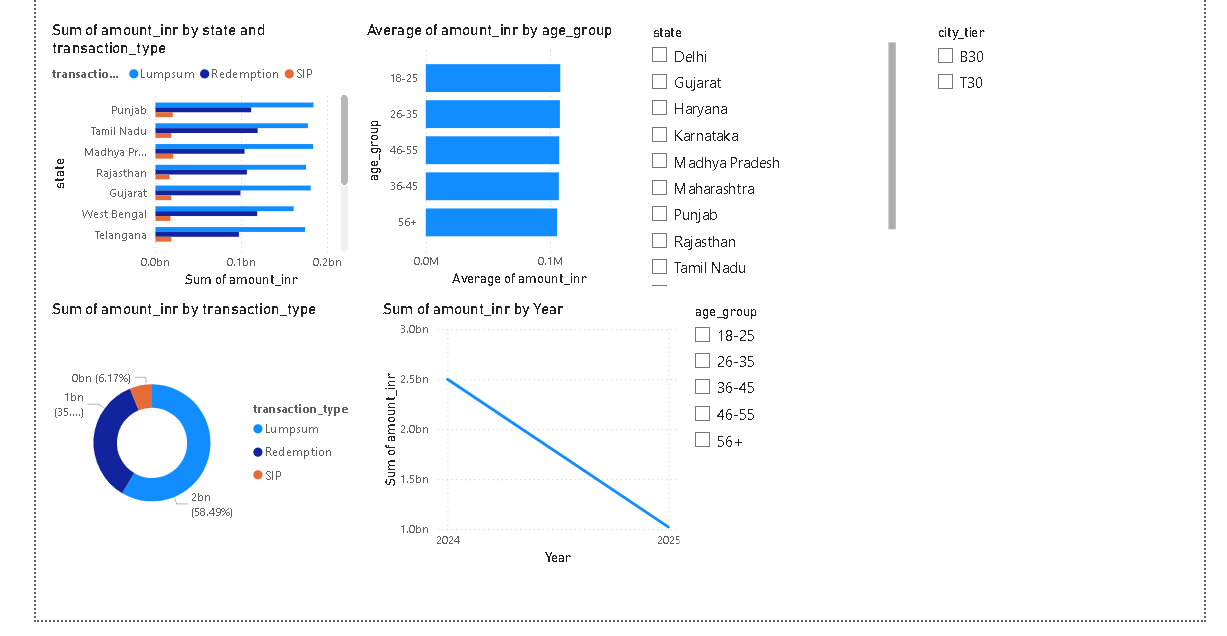

Layout of this report page (visuals, bound fields, positions):
{"tool":"powerbi","page":{"name":"Investor Analytics","canvas":[1280,720],"ordinal":2},"visuals":[{"type":"clusteredBarChart","fields":{"Category":["investor_transactions_cleaned.state"],"Y":["Sum(investor_transactions_cleaned.amount_inr)"],"Series":["investor_transactions_cleaned.transaction_type"]},"box":[12.3,63.1,334.8,296.4],"z":0},{"type":"donutChart","fields":{"Category":["investor_transactions_cleaned.transaction_type"],"Y":["Sum(investor_transactions_cleaned.amount_inr)"]},"box":[12,369,335,296],"z":1000},{"type":"clusteredBarChart","fields":{"Category":["investor_transactions_cleaned.age_group"],"Y":["Avg(investor_transactions_cleaned.amount_inr)"]},"box":[358.1,63.1,292.3,296.4],"z":2000},{"type":"lineChart","fields":{"Category":["investor_transactions_cleaned.transaction_date.Variation.Date Hierarchy.Year","investor_transactions_cleaned.transaction_date.Variation.Date Hierarchy.Quarter","investor_transactions_cleaned.transaction_date.Variation.Date Hierarchy.Month","investor_transactions_cleaned.transaction_date.Variation.Date Hierarchy.Day"],"Y":["Sum(investor_transactions_cleaned.amount_inr)"]},"box":[375,369,335,296],"z":3000},{"type":"slicer","fields":{"Values":["investor_transactions_cleaned.state"]},"box":[662.8,63.1,284,296.4],"z":4000},{"type":"slicer","fields":{"Values":["investor_transactions_cleaned.age_group"]},"box":[709.4,369.1,334.8,296.4],"z":5000},{"type":"slicer","fields":{"Values":["investor_transactions_cleaned.city_tier"]},"box":[975.6,63.1,281.3,296.4],"z":6000}]}

Visuals, with their boxes on the page's 1280x720 design canvas (x1, y1, x2, y2). These are canvas units, not pixel positions in the 1227x636 screenshot, which may show the page scaled, cropped or inside an application window:
clusteredBarChart - investor_transactions_cleaned.state x Sum(investor_transactions_cleaned.amount_inr): {"x1": 12, "y1": 63, "x2": 347, "y2": 360}
donutChart - investor_transactions_cleaned.transaction_type x Sum(investor_transactions_cleaned.amount_inr): {"x1": 12, "y1": 369, "x2": 347, "y2": 665}
clusteredBarChart - investor_transactions_cleaned.age_group x Avg(investor_transactions_cleaned.amount_inr): {"x1": 358, "y1": 63, "x2": 650, "y2": 360}
lineChart - investor_transactions_cleaned.transaction_date.Variation.Date Hierarchy.Year x investor_transactions_cleaned.transaction_date.Variation.Date Hierarchy.Quarter: {"x1": 375, "y1": 369, "x2": 710, "y2": 665}
slicer - investor_transactions_cleaned.state: {"x1": 663, "y1": 63, "x2": 947, "y2": 360}
slicer - investor_transactions_cleaned.age_group: {"x1": 709, "y1": 369, "x2": 1044, "y2": 666}
slicer - investor_transactions_cleaned.city_tier: {"x1": 976, "y1": 63, "x2": 1257, "y2": 360}
